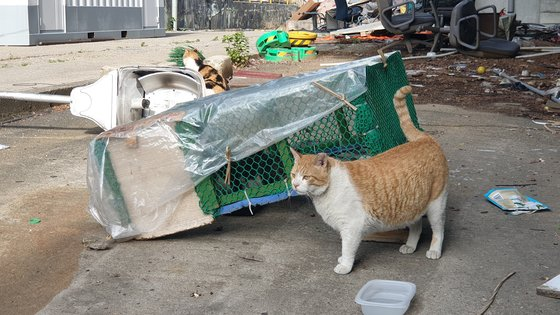cat: (283, 85, 463, 279)
cat-face: (280, 147, 340, 201)
